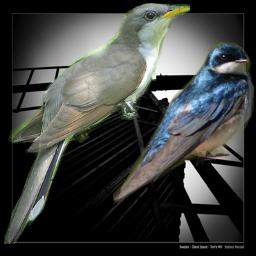Cuckoo: (4, 3, 190, 244)
Swallow: (113, 39, 255, 206)
